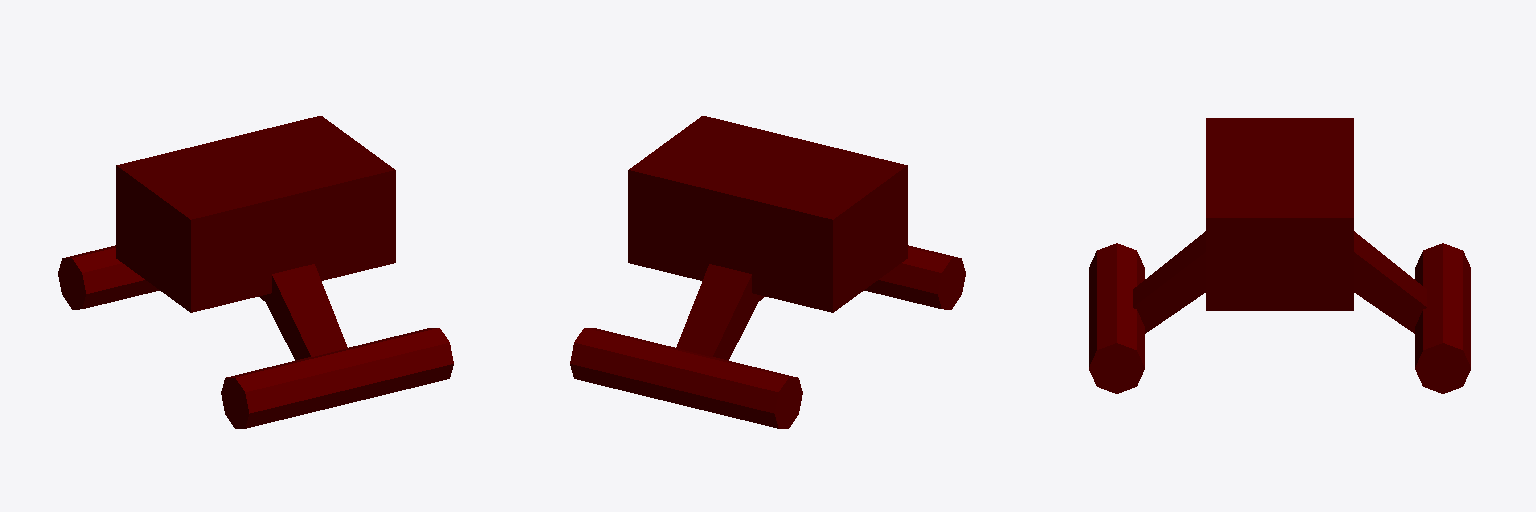
The model's file is bm_invert.obj.
3 renders of one model, left to right at view 1: azimuth 30°, elevation 25°; view 2: azimuth 150°, elevation 25°; view 3: azimuth 270°, elevation 25°, orthographic.
Size of the model in its own units: 1.1 by 0.9075 by 1.78.